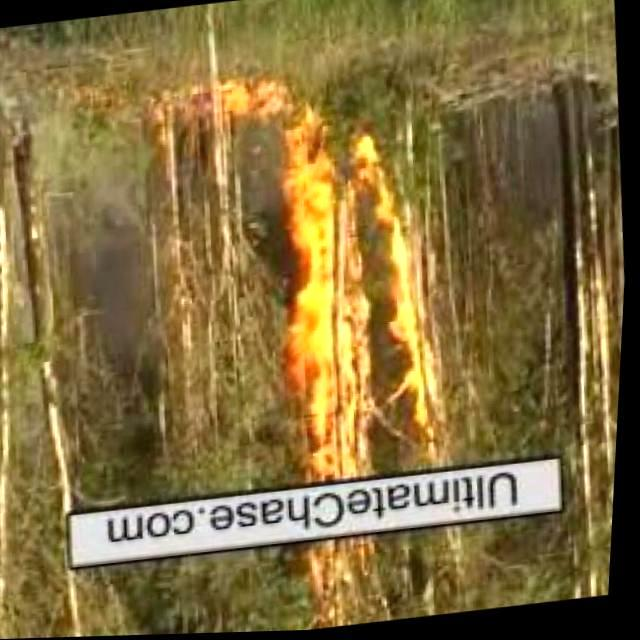fire: (252, 114, 468, 488), (174, 52, 310, 128), (297, 534, 397, 632)
